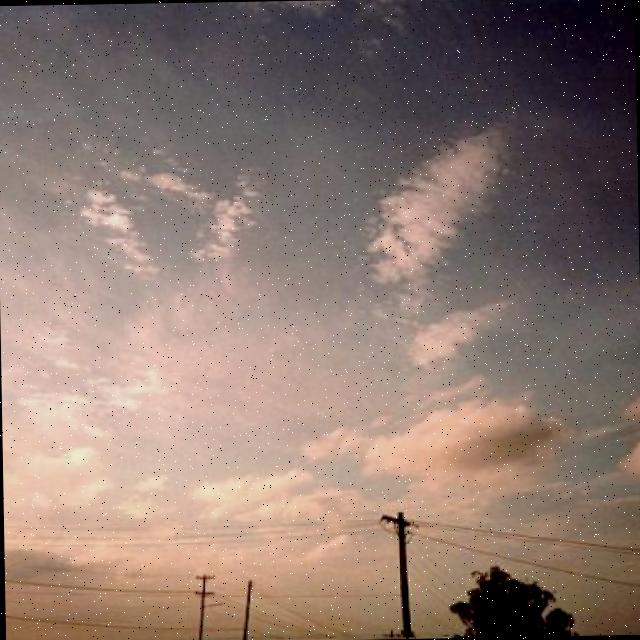Cs: (1, 87, 640, 490)
